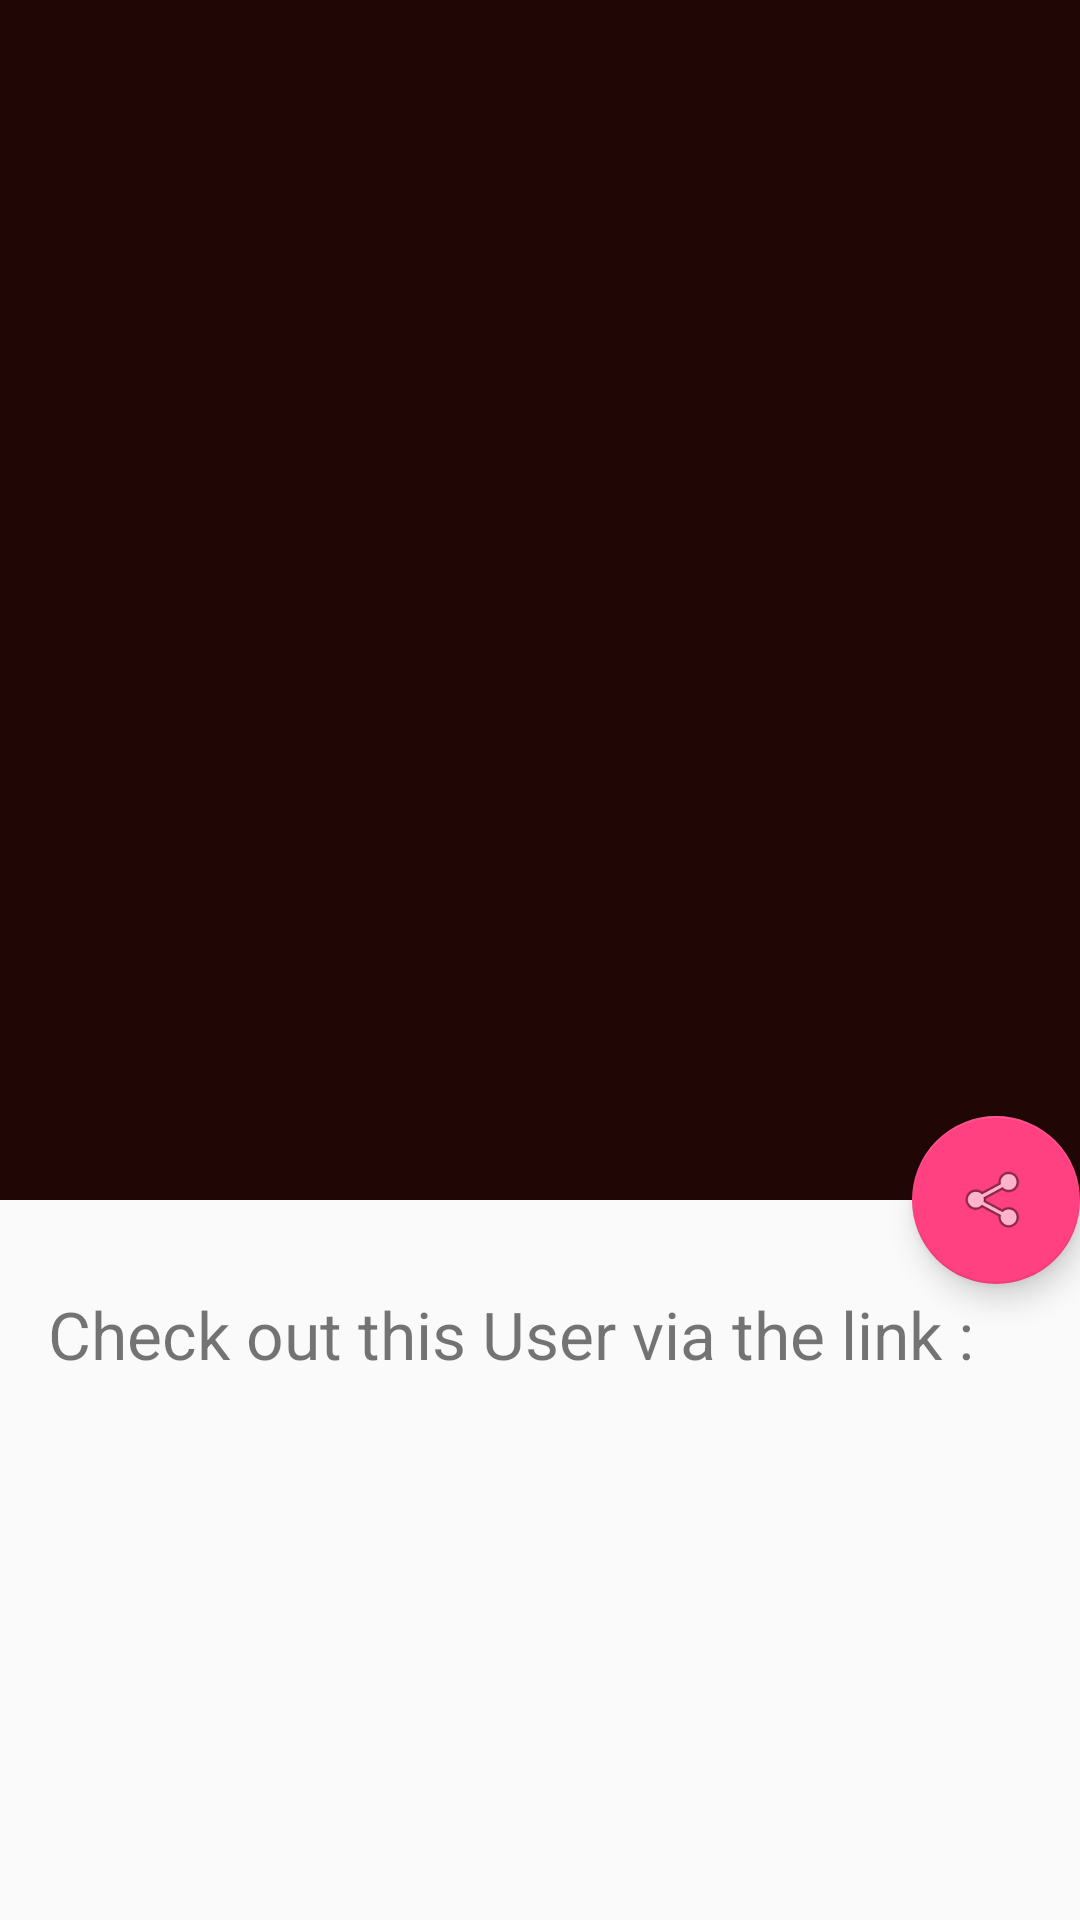

Icon click points for this 1080px×1920px phone screenshot, format (x,y):
share: (996,1200)
